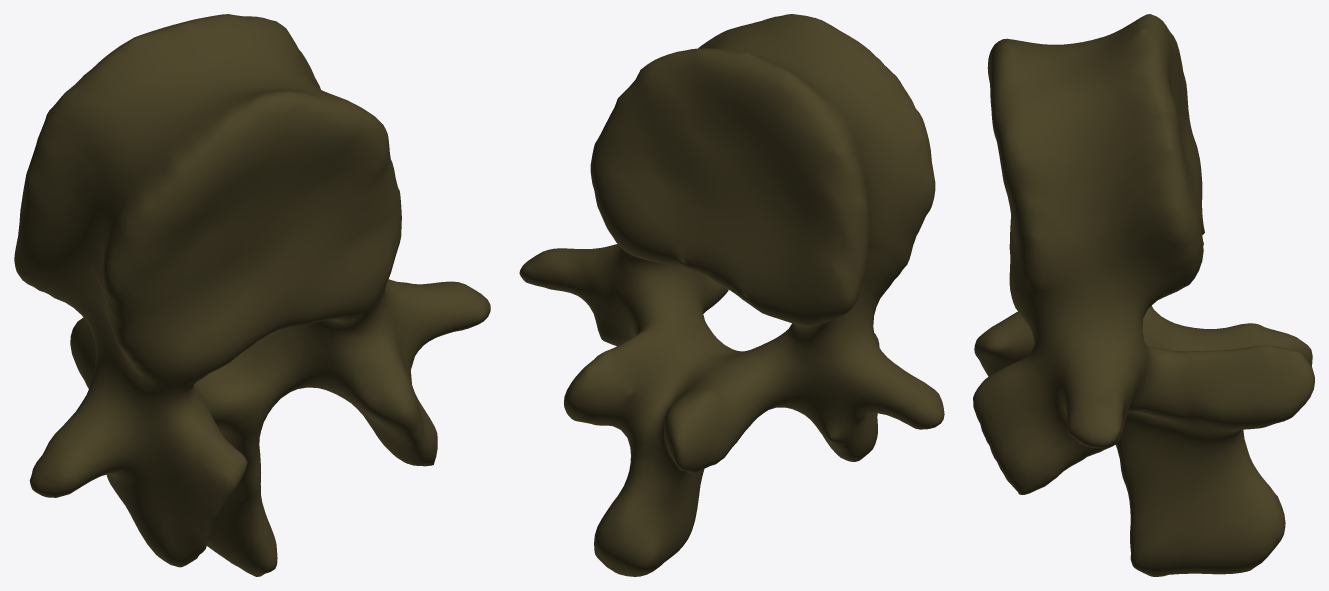
File: segmentations_vertebrae_L1.obj
3 views of the same model, side by side, from view 1: azimuth 30°, elevation 25°; view 2: azimuth 150°, elevation 25°; view 3: azimuth 270°, elevation 25° (orthographic). The views are drawn at different scales.
Visible parts, largest first — view 1: grp1; view 2: grp1; view 3: grp1.
Boxes of the visible parts, x1,y1,x2,y2 form: grp1: (14,14,490,576); grp1: (519,14,944,576); grp1: (973,14,1314,576).
Bounding box in the file's own units: 45.21 × 53.77 × 32.41.
